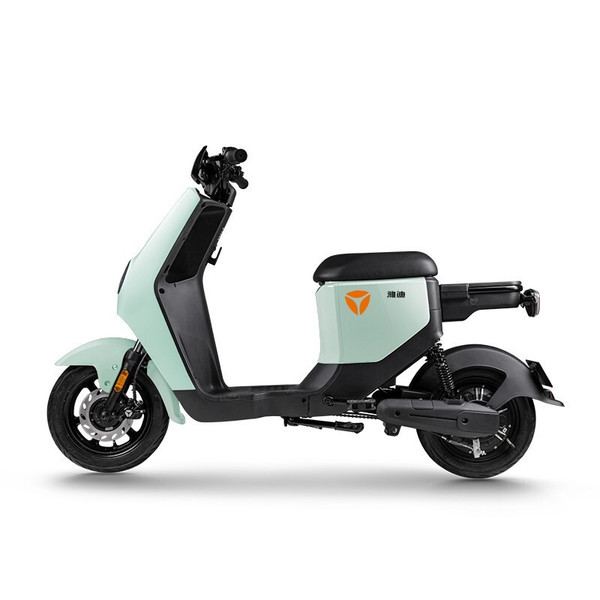MNV: (48, 147, 563, 477)
